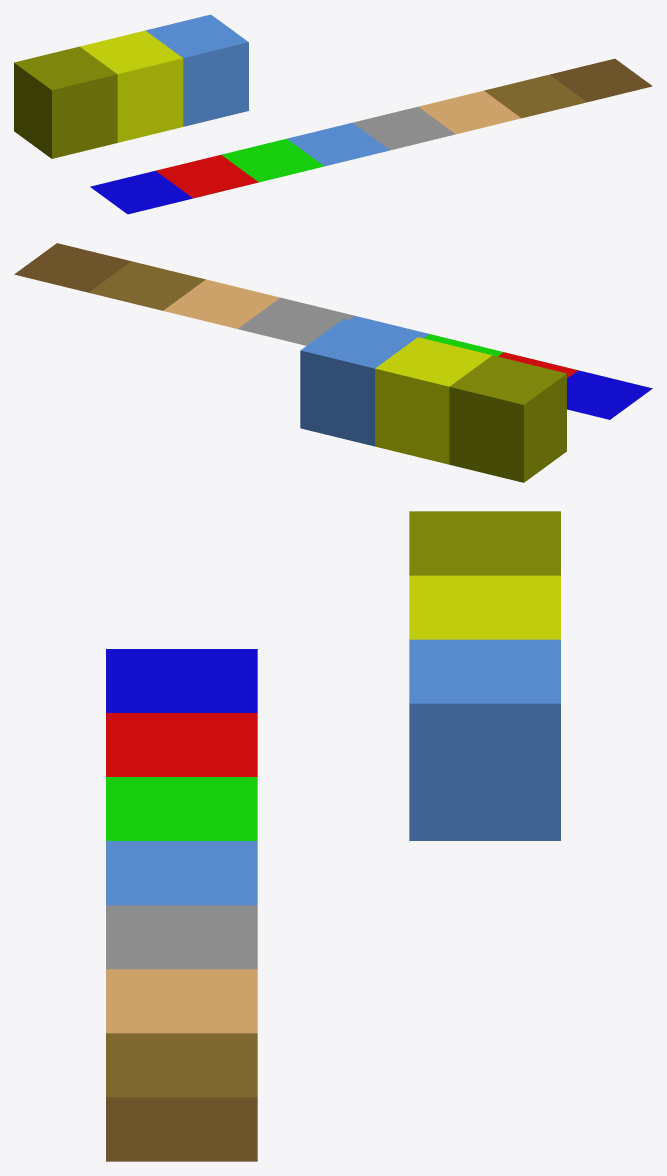
File: Tile.glb
3 views of the same model, one above another, from view 1: azimuth 30°, elevation 25°; view 2: azimuth 150°, elevation 25°; view 3: azimuth 270°, elevation 25° (orthographic). The views are drawn at different scales.
Visible parts, largest first — view 1: WallExterior, WallInterior, WallWindow, TileFlooring, TileStoneRoad, TileZoneExit, TileGrass, TileZoneEntry, TileDirtRoad, TileWater, TileFlooringDoor; view 2: WallExterior, WallWindow, WallInterior, TileDirtRoad, TileFlooringDoor, TileFlooring, TileStoneRoad, TileZoneEntry, TileZoneExit, TileGrass, TileWater; view 3: WallWindow, WallExterior, TileStoneRoad, TileDirtRoad, TileWater, TileFlooringDoor, TileFlooring, WallInterior, TileZoneExit, TileGrass, TileZoneEntry.
Boxes of the visible parts, x1,y1,x2,y2 form: WallExterior: (14, 46, 117, 158); WallInterior: (80, 30, 183, 142); WallWindow: (145, 14, 248, 126); TileFlooring: (484, 74, 586, 118); TileStoneRoad: (353, 106, 455, 150); TileZoneExit: (156, 155, 258, 198); TileGrass: (221, 138, 324, 182); TileZoneEntry: (90, 170, 192, 214); TileDirtRoad: (418, 90, 521, 134); TileWater: (287, 122, 389, 166); TileFlooringDoor: (550, 58, 652, 102); WallExterior: (449, 355, 566, 482); WallWindow: (300, 319, 417, 446); WallInterior: (375, 337, 491, 464); TileDirtRoad: (163, 279, 279, 328); TileFlooringDoor: (14, 243, 130, 292); TileFlooring: (89, 261, 205, 310); TileStoneRoad: (238, 297, 354, 345); TileZoneEntry: (567, 370, 652, 419); TileZoneExit: (498, 352, 577, 378); TileGrass: (423, 334, 503, 356); TileWater: (349, 316, 428, 338); WallWindow: (409, 639, 560, 840); WallExterior: (409, 511, 560, 575); TileStoneRoad: (106, 905, 257, 969); TileDirtRoad: (106, 969, 257, 1033); TileWater: (106, 841, 257, 905); TileFlooringDoor: (106, 1097, 257, 1161); TileFlooring: (106, 1033, 257, 1097); WallInterior: (409, 575, 560, 639); TileZoneExit: (106, 713, 257, 776); TileGrass: (106, 777, 257, 840); TileZoneEntry: (106, 649, 257, 712).
Bounding box in the file's own units: 8 × 1 × 3.
